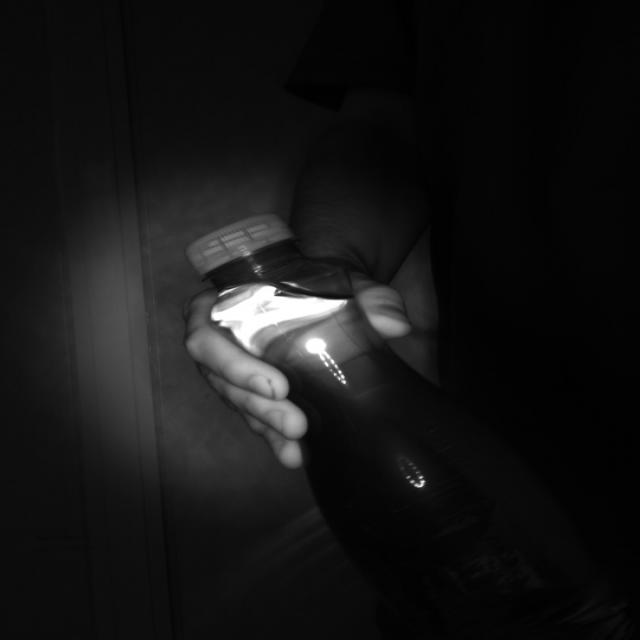Good: (183, 212, 295, 275)
